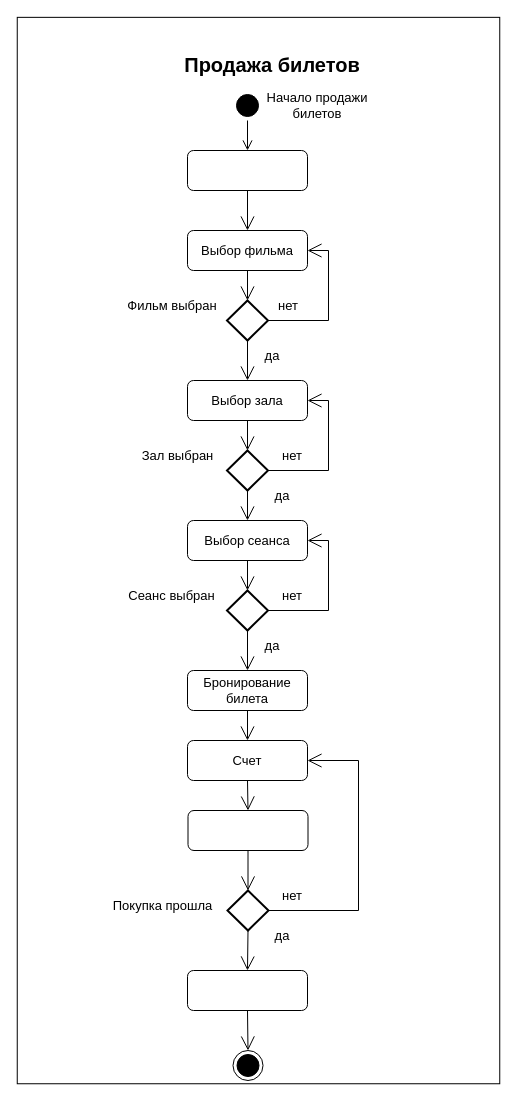
The diagram is 518 pixels wide and 1102 high, and some of its shapes have lost their labels. The centre of each missing label's shape, as x and y in pixels:
Билет на продажу: point (247, 170)
Купленный билет: point (247, 990)
Покупка билета: point (247, 830)
